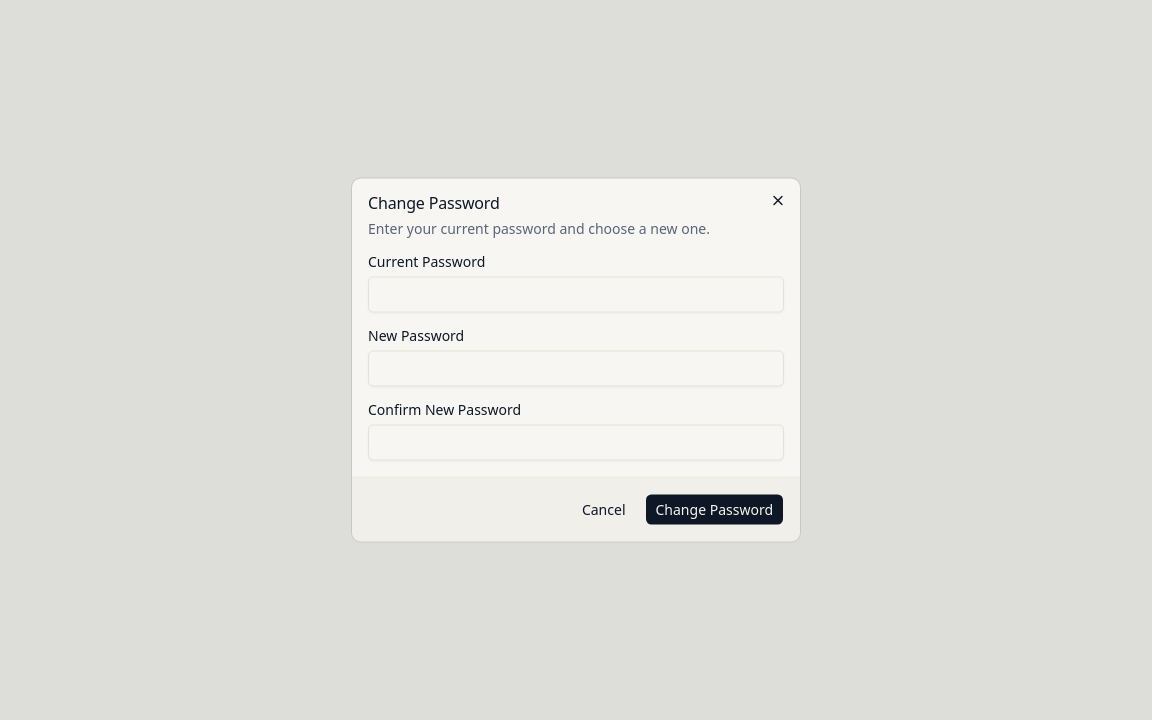
Test case: ChangePasswordDialog › blocks submit when the new password is too short
Type "OldPass123!" into the password field labelled "Current Password" at (576, 294), box [368,276,784,312]
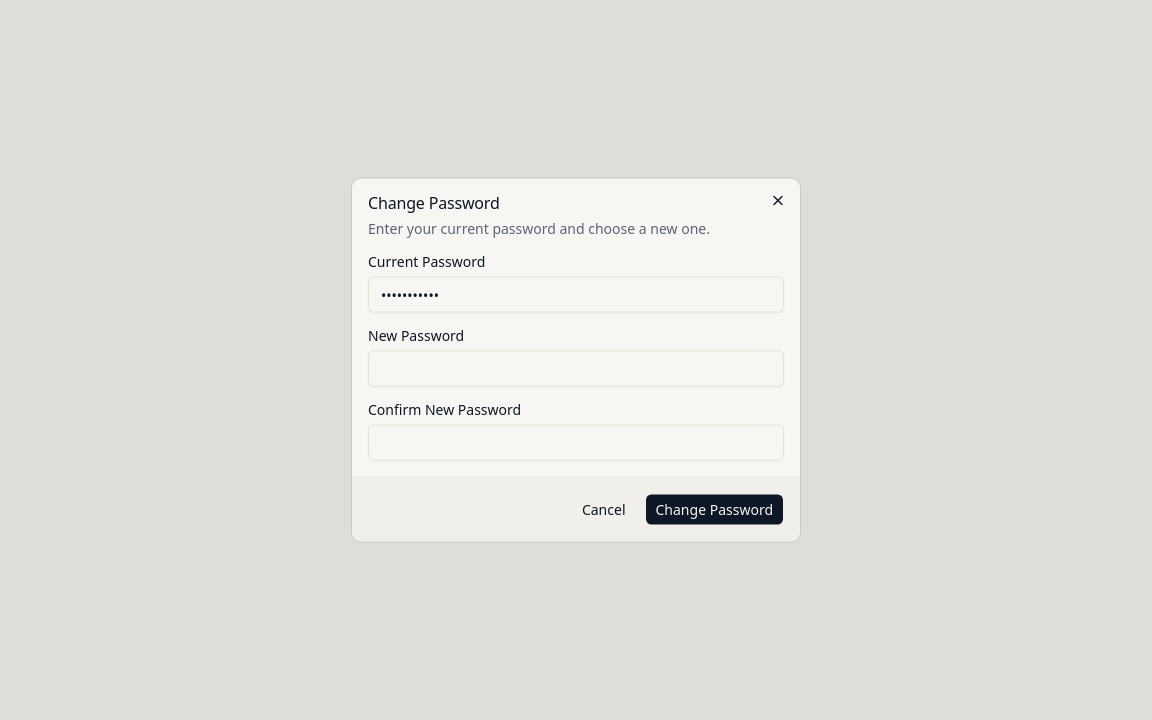
Type "short" into the password field labelled "New Password" at (576, 368), box [368,350,784,386]
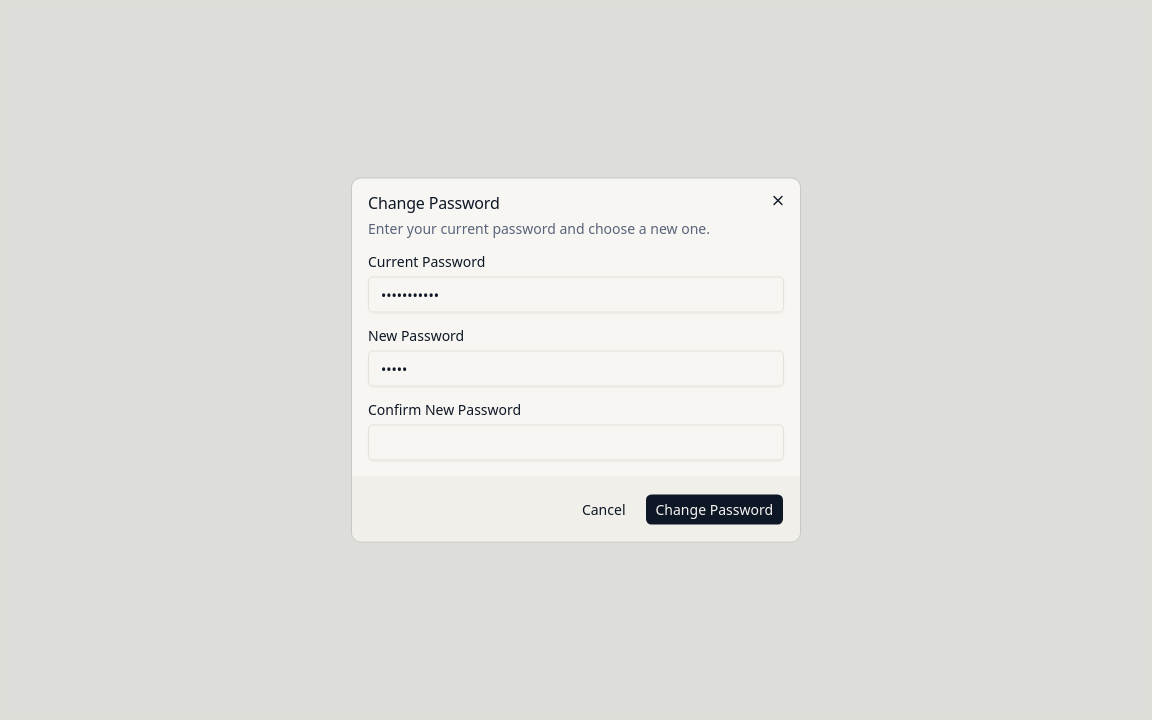
Type "short" into the password field labelled "Confirm New Password" at (576, 442), box [368,424,784,460]
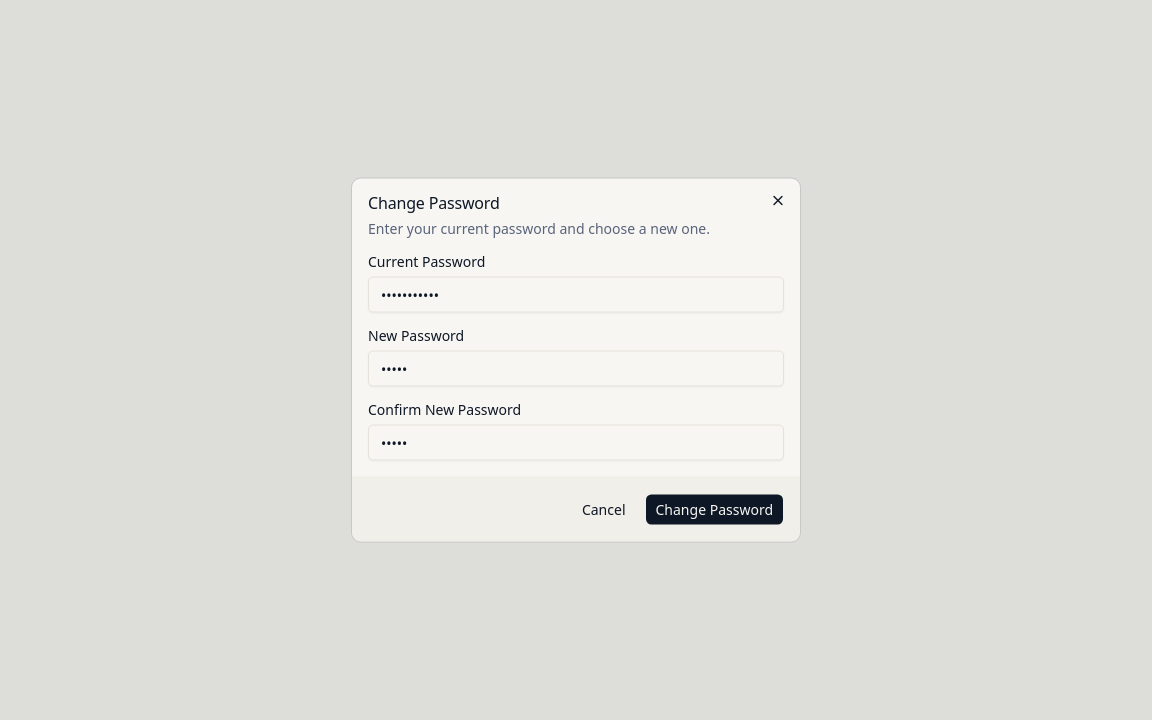
Click the button "Change Password" at (714, 510), box [644,494,784,526]
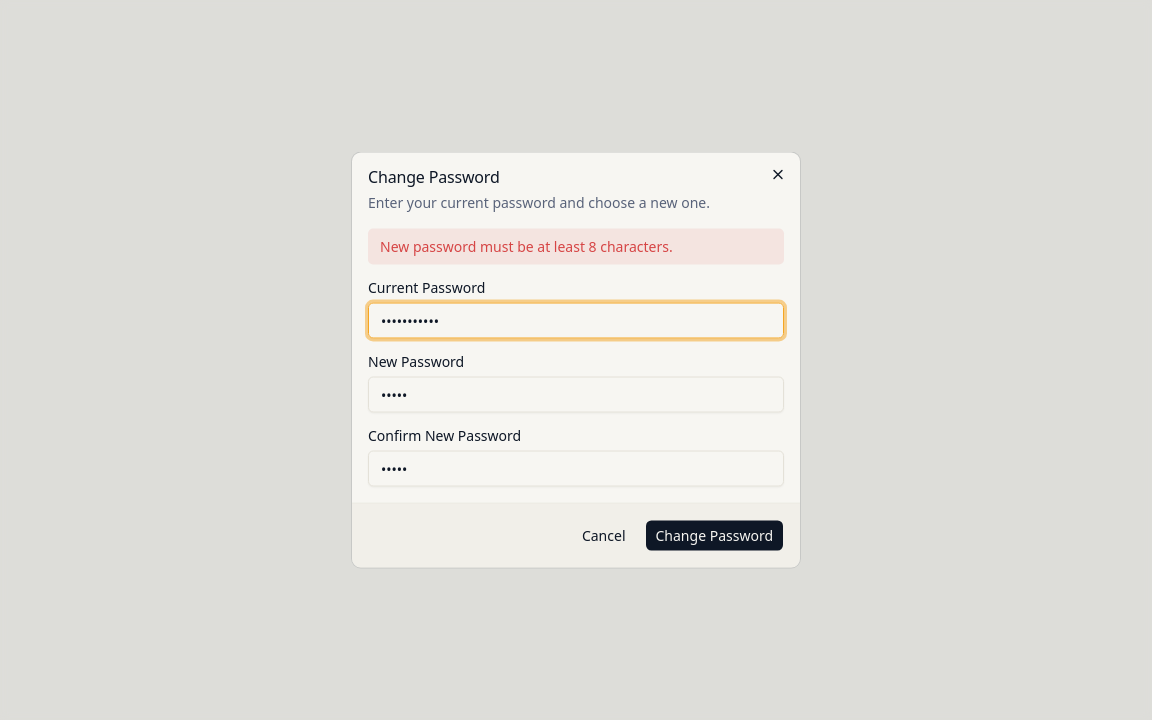
Now the message shows "at least 8", box [380,236,673,256]
